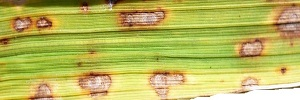RiceBrownSpot: (228, 1, 300, 61), (145, 66, 264, 96), (28, 68, 130, 100), (1, 11, 55, 43), (112, 7, 172, 31)
